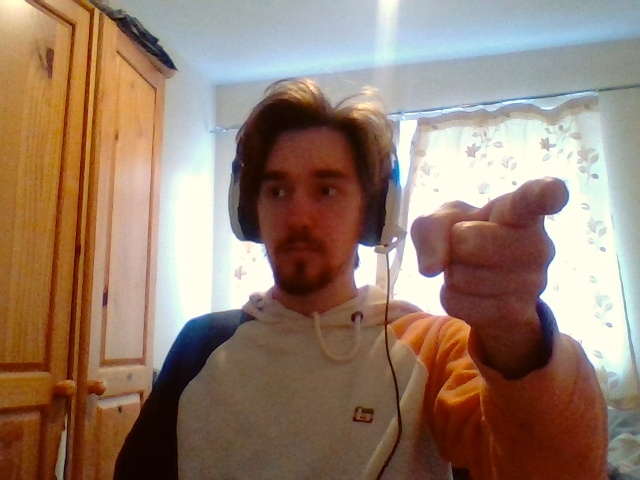you: (411, 178, 570, 318)
